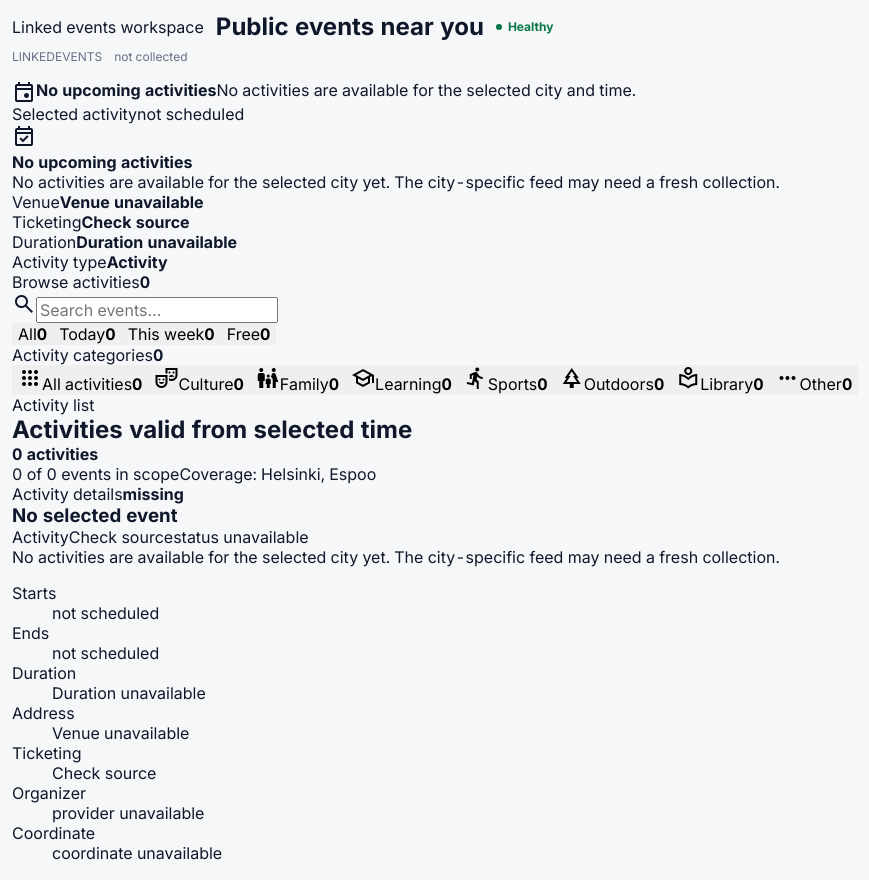
Test: LinkedEventsWorkspace selection semantics › does not include the decorative clear icon in the filter button name
Click the button with aria-label "Today: 0".
click(87, 334)  # box x1=53 y1=323 x2=122 y2=345
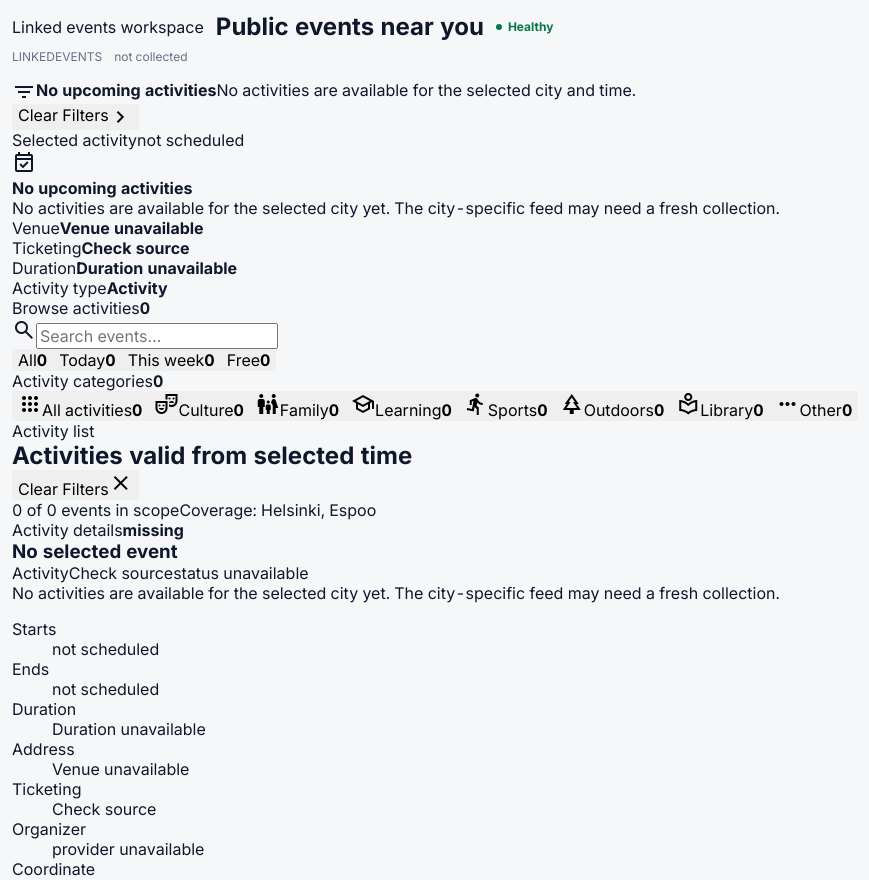
Now the 1st button "Clear Filters" is shown, box x1=12 y1=104 x2=139 y2=130
